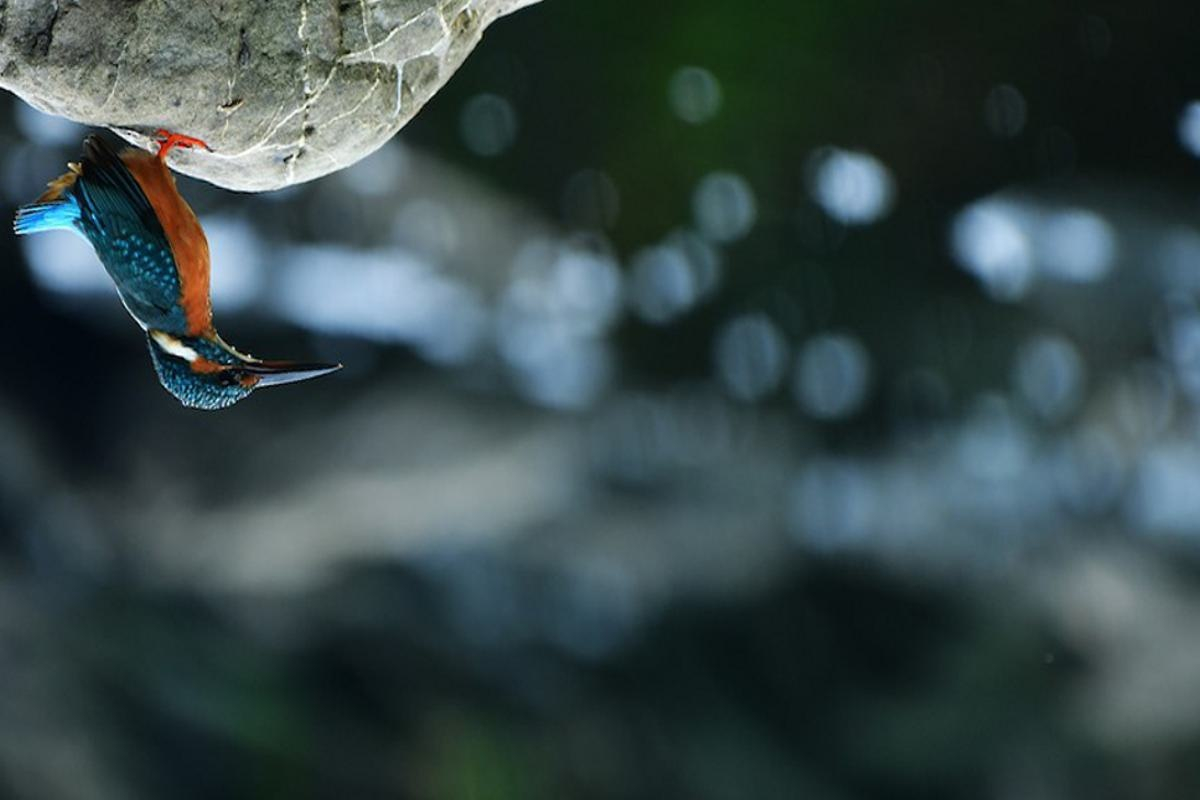kingfisher: (19, 111, 366, 436)
